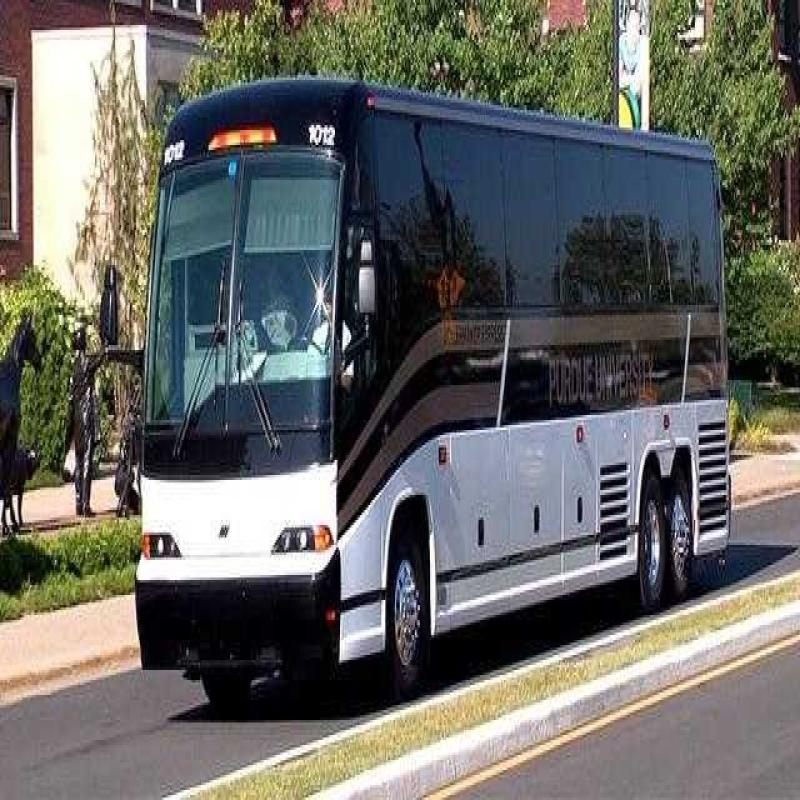bus: (111, 64, 770, 659)
